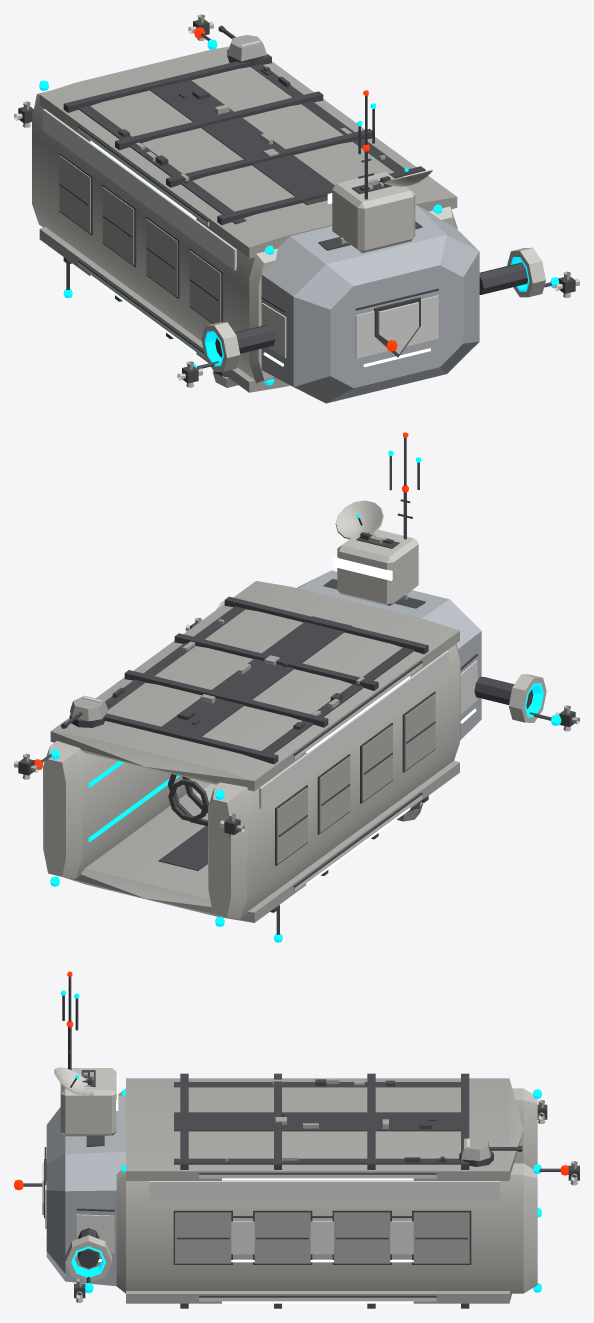
File: shipyard.glb
3 renders of one model, top to bottom at view 1: azimuth 30°, elevation 25°; view 2: azimuth 150°, elevation 25°; view 3: azimuth 270°, elevation 25°, orthographic. The views are drawn at different scales.
Parts seen in each view (by area): view 1: shipyard, Turret_0; view 2: shipyard, Turret_0; view 3: shipyard, Turret_0.
Part boxes in pixels (x1,y1,x2,y2): shipyard: (14,14,579,403); Turret_0: (218,25,266,65); shipyard: (14,432,579,942); Turret_0: (61,695,108,728); shipyard: (14,971,579,1308); Turret_0: (459,1137,522,1166).
Bounding box in the file's own units: 1.38 × 1.14 × 1.86.
